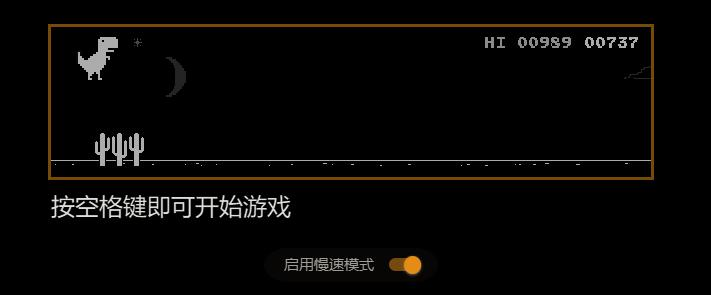cactus: (93, 132, 145, 168)
dino: (76, 36, 119, 81)
